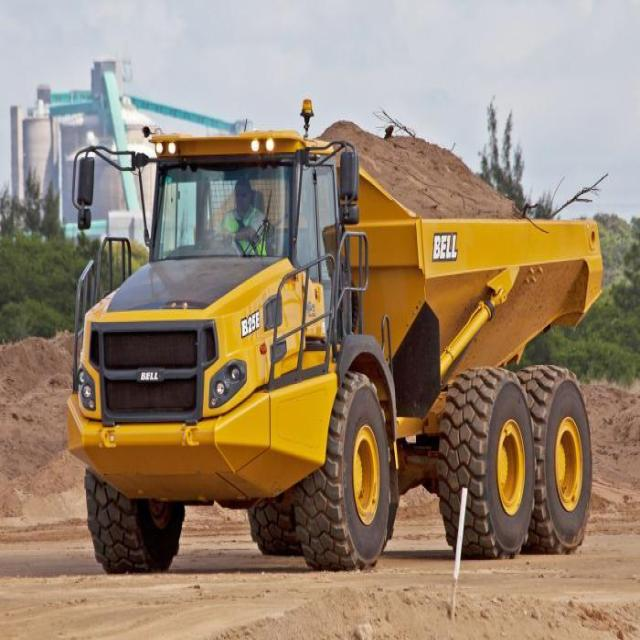dump_truck: (51, 88, 614, 576)
